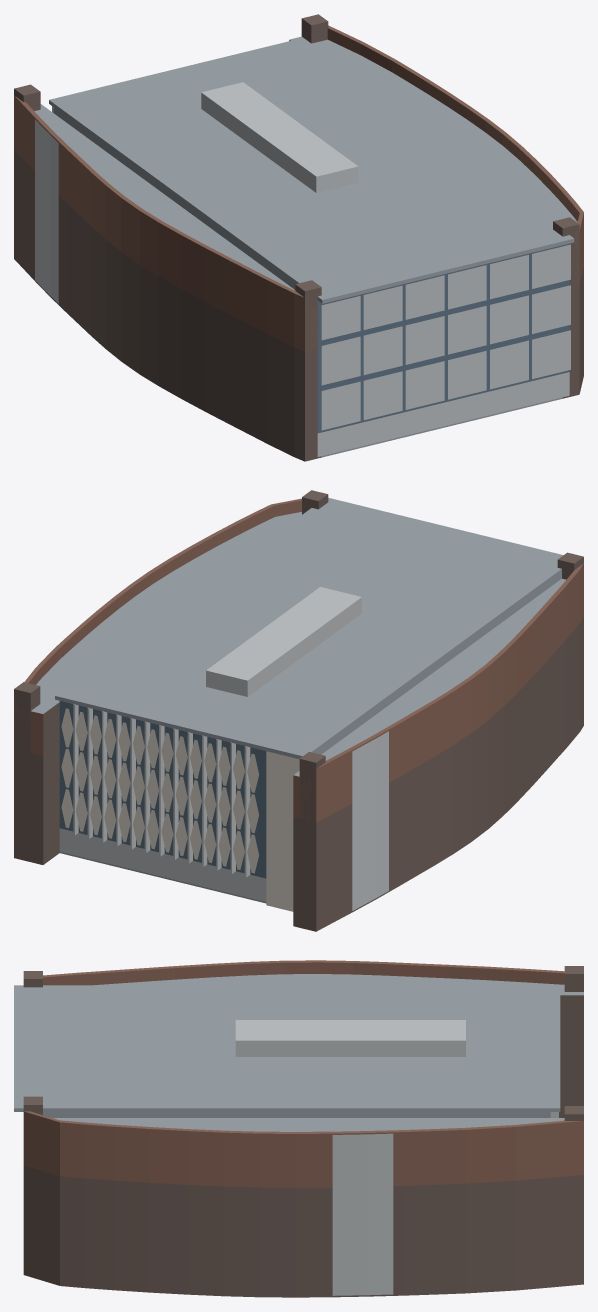
Rendered from phx-burton-barr-central-library.glb.
3 renders of one model, top to bottom at view 1: azimuth 30°, elevation 25°; view 2: azimuth 150°, elevation 25°; view 3: azimuth 270°, elevation 25°, orthographic.
Parts seen in each view (by area): view 1: Burton Barr Central Library; view 2: Burton Barr Central Library; view 3: Burton Barr Central Library.
Part boxes in pixels (<box>): Burton Barr Central Library: <box>14,14,583,461</box>; Burton Barr Central Library: <box>14,490,583,931</box>; Burton Barr Central Library: <box>14,960,583,1297</box>.
Bounding box in the file's own units: 67.82 × 32.5 × 94.1.
